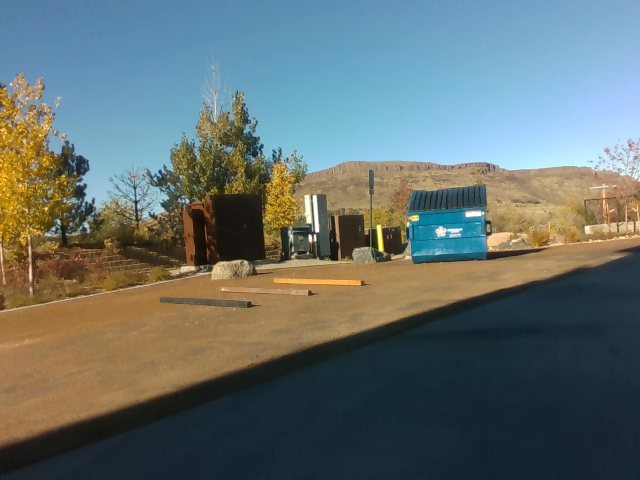Dunnage: (155, 267, 375, 318)
